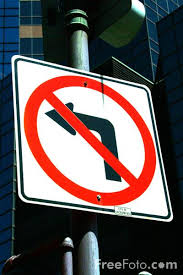No_left_turn: (24, 76, 157, 204)
